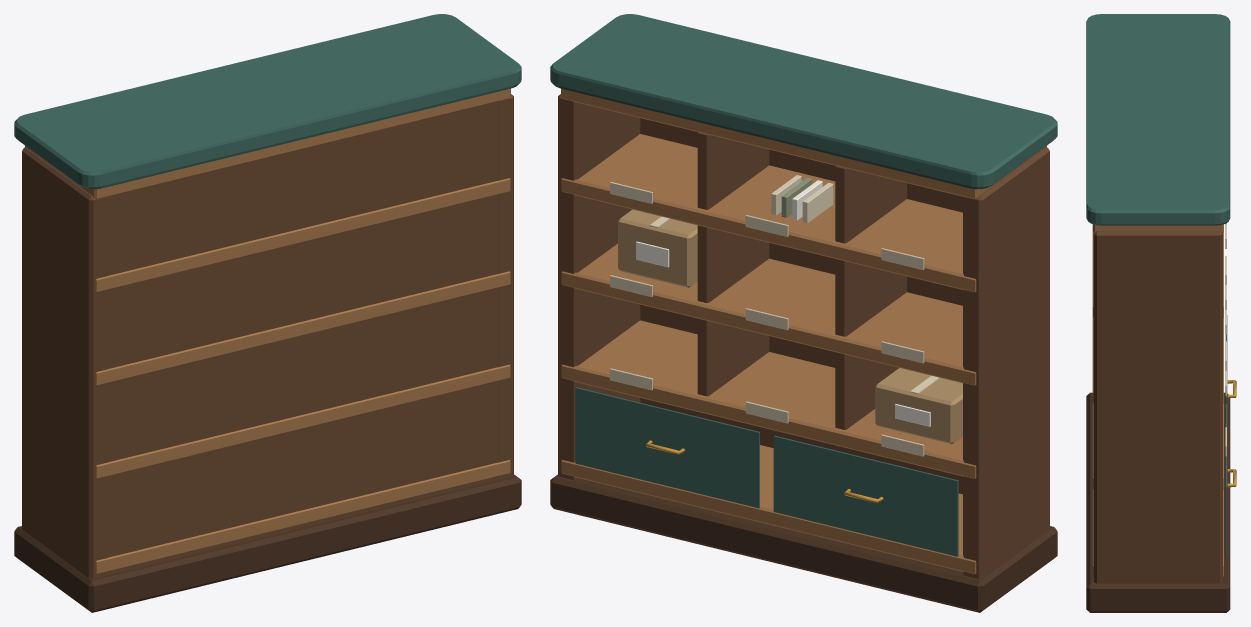
The model's file is SU_05_Mail_Station.fbx.
3 renders of one model, left to right at view 1: azimuth 30°, elevation 25°; view 2: azimuth 150°, elevation 25°; view 3: azimuth 270°, elevation 25°, orthographic. The views are drawn at different scales.
Visible parts, largest first — view 1: SU_05_Mail_Station; view 2: SU_05_Mail_Station; view 3: SU_05_Mail_Station.
Boxes of the visible parts, x1=… form: SU_05_Mail_Station: x1=14, y1=14, x2=521, y2=612; SU_05_Mail_Station: x1=550, y1=14, x2=1057, y2=612; SU_05_Mail_Station: x1=1086, y1=14, x2=1236, y2=612.
Bounding box in the file's own units: 2.18 × 0.6988 × 2.08.
